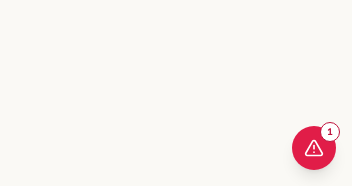
Scenario: acknowledging › takes it off the list straight away
Click the button titled "Feature alerts": [314, 148] box [292,126,336,170]
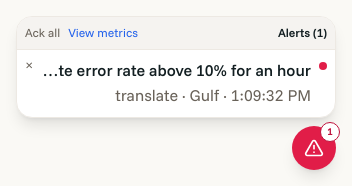
Click the button titled "Acknowledge": [29, 66] box [25,58,33,74]
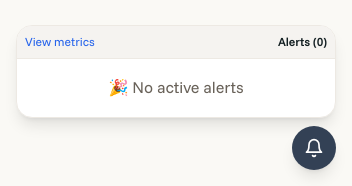
Expected: the button titled "Feature alerts" is empty, [292,126,336,170]
